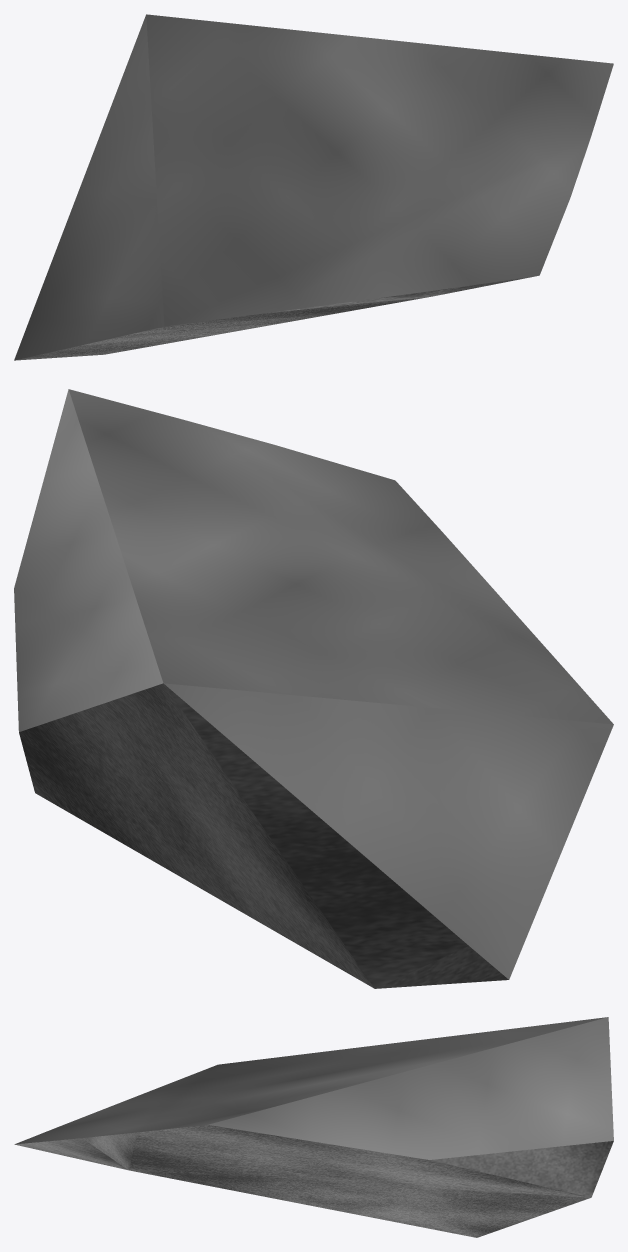
File: leg_2_cell_015.fbx
The picture shows the model from 3 angles, top to bottom: view 1: azimuth 30°, elevation 25°; view 2: azimuth 150°, elevation 25°; view 3: azimuth 270°, elevation 25°; orthographic projection. The views are drawn at different scales.
Visible parts, largest first — view 1: leg_2_cell.015; view 2: leg_2_cell.015; view 3: leg_2_cell.015.
Part boxes in pixels (box(x1,y1,x2,y2)): leg_2_cell.015: box(14, 14, 613, 360); leg_2_cell.015: box(14, 389, 613, 988); leg_2_cell.015: box(14, 1017, 613, 1237).
Bounding box in the file's own units: 11.21 × 6.61 × 11.9.
